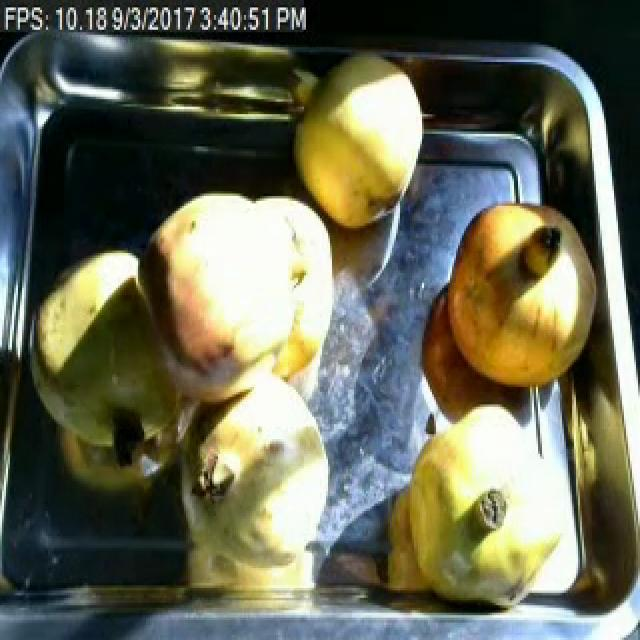fruit: (114, 176, 348, 432), (382, 390, 572, 615), (170, 367, 352, 591), (438, 193, 602, 400), (286, 50, 428, 238)
